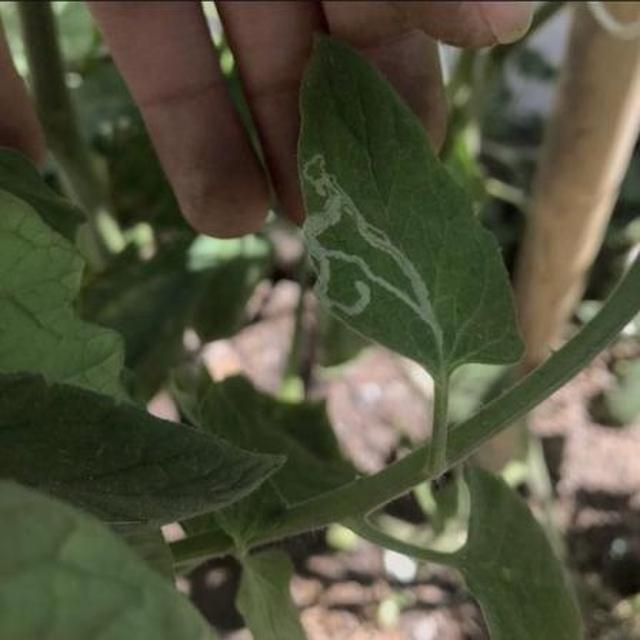Leaf Miner: (417, 32, 640, 528)
